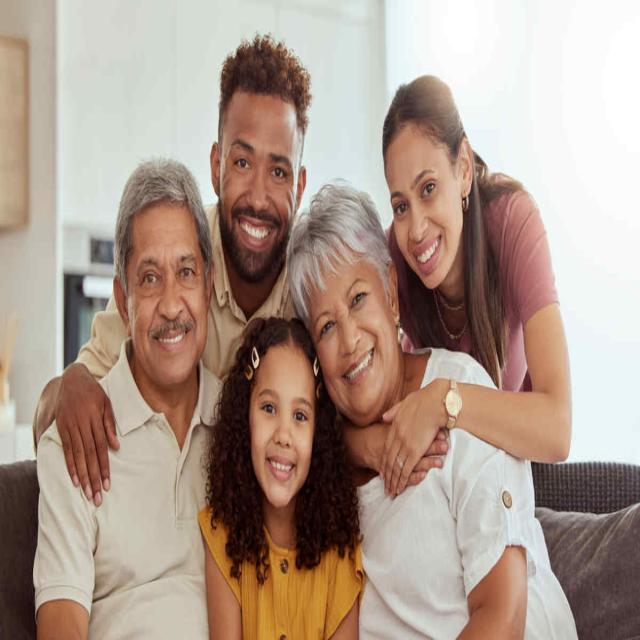adult: (286, 178, 580, 640), (34, 33, 306, 507), (36, 154, 229, 640), (381, 71, 566, 497)
child: (200, 313, 362, 640)
